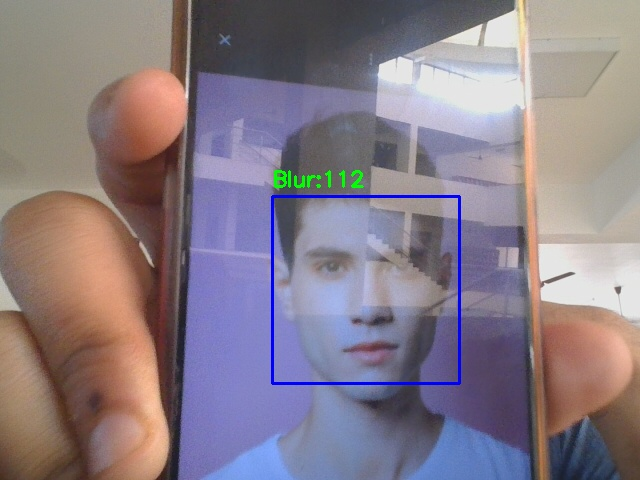fake: (272, 196, 459, 383)
